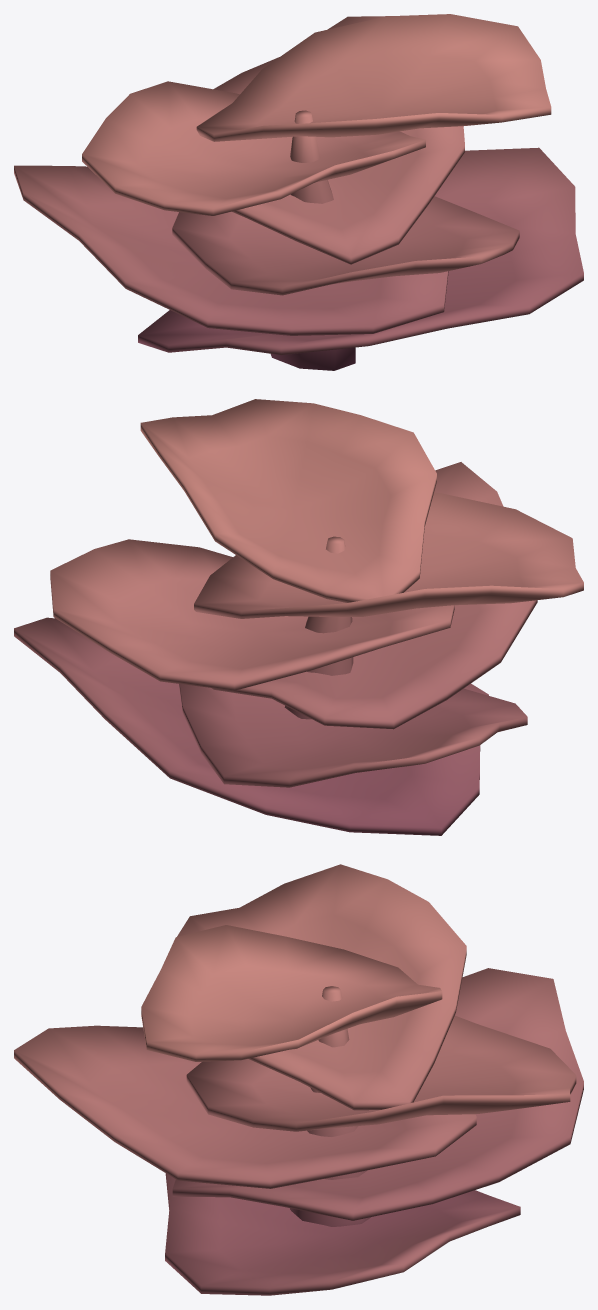
File: coral-foliose.glb
The picture shows the model from 3 angles, top to bottom: view 1: azimuth 30°, elevation 25°; view 2: azimuth 150°, elevation 25°; view 3: azimuth 270°, elevation 25°; orthographic projection. The views are drawn at different scales.
Visible parts, largest first — view 1: coral-foliose.001; view 2: coral-foliose.001; view 3: coral-foliose.001.
Boxes of the visible parts, bbox=[...] form: coral-foliose.001: bbox=[14, 14, 583, 370]; coral-foliose.001: bbox=[14, 399, 583, 835]; coral-foliose.001: bbox=[14, 864, 583, 1295].
Size of the model in its own units: 3.07 by 1.81 by 2.88.
